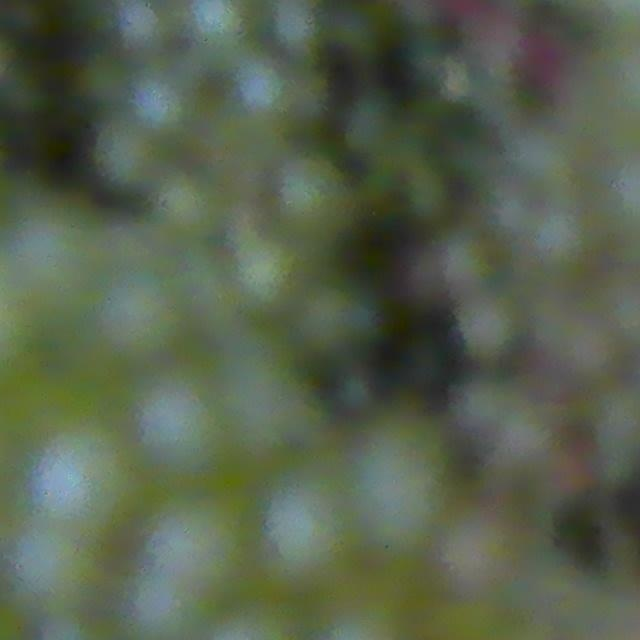SeaGrape: (356, 420, 461, 549), (99, 273, 213, 387), (36, 425, 131, 535), (426, 486, 524, 591), (130, 373, 226, 470), (270, 468, 351, 578), (227, 354, 317, 449), (136, 505, 234, 590), (8, 530, 113, 606), (539, 302, 621, 392), (273, 153, 353, 240), (108, 568, 198, 640), (230, 232, 303, 311), (527, 205, 594, 273), (126, 70, 191, 137), (459, 294, 521, 358), (435, 230, 495, 293), (186, 0, 246, 46)
